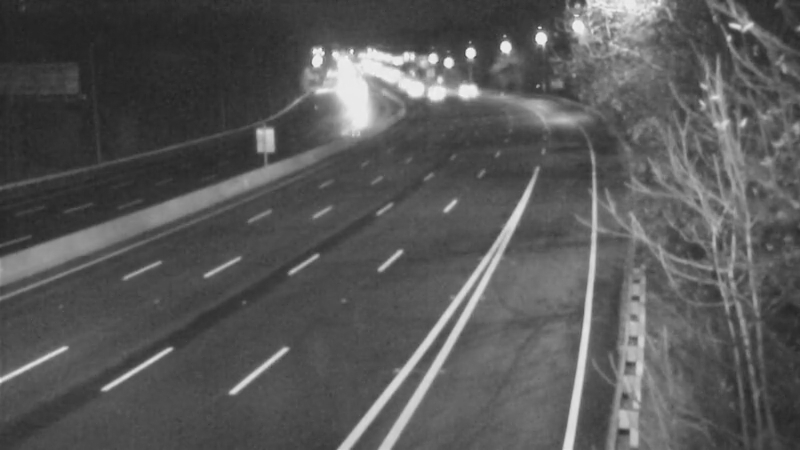vehicle: (410, 68, 460, 118), (437, 60, 487, 110)
